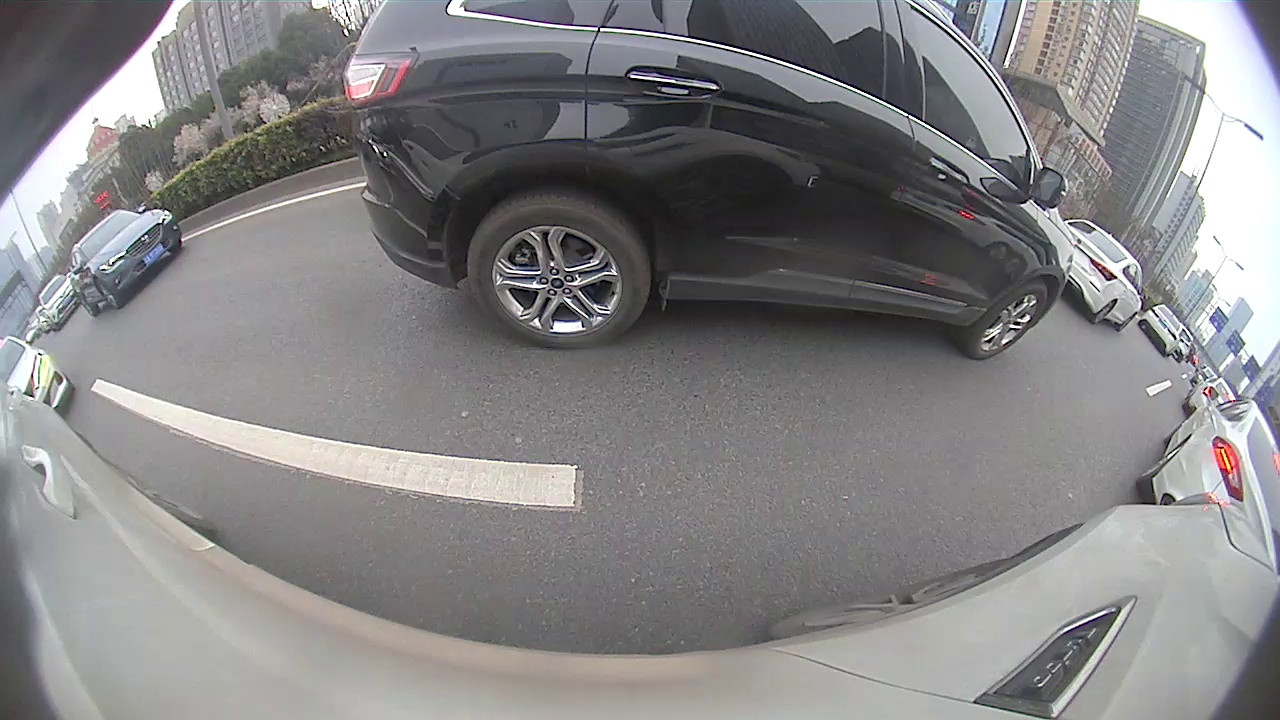car: (343, 1, 1078, 363), (1137, 387, 1278, 570), (66, 205, 183, 315), (1063, 219, 1147, 335), (1135, 302, 1183, 358), (36, 273, 78, 329)
front: (967, 279, 1052, 363)
rear: (467, 186, 655, 350), (1092, 301, 1116, 323)
